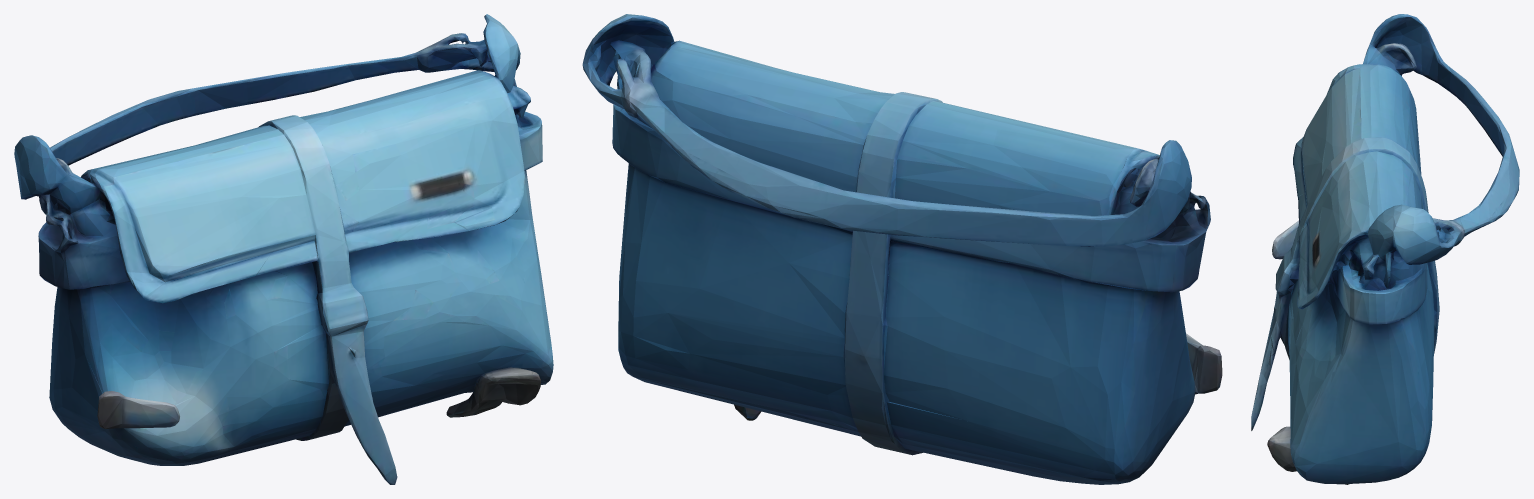
3 renders of one model, left to right at view 1: azimuth 30°, elevation 25°; view 2: azimuth 150°, elevation 25°; view 3: azimuth 270°, elevation 25°, orthographic. The views are drawn at different scales.
Parts seen in each view (by area): view 1: geometry_0; view 2: geometry_0; view 3: geometry_0.
Boxes of the visible parts, box(x1,y1,x2,y2) form: geometry_0: box(14, 14, 553, 484); geometry_0: box(582, 14, 1222, 484); geometry_0: box(1251, 14, 1519, 484).
Size of the model in its own units: 0.9993 by 0.676 by 0.539.
1 material, 1 textured.
